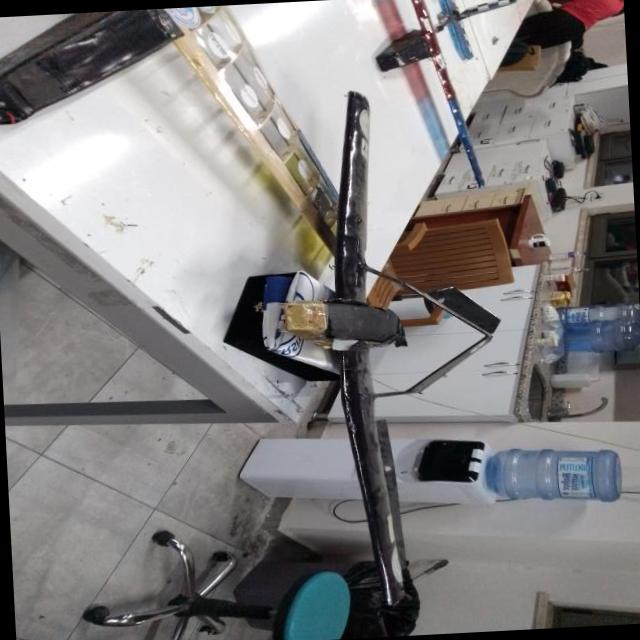UAV: (221, 56, 467, 618)
